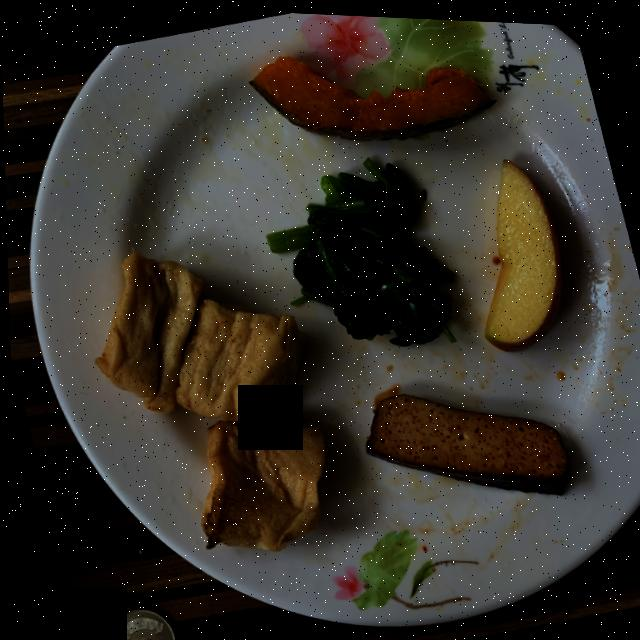apple -sliced-: (482, 154, 561, 346)
coin: (106, 606, 172, 640)
creamy tofu -without sauce-: (93, 250, 321, 547)
firm tofu: (363, 389, 567, 489)
mustard greens: (264, 157, 452, 340)
pumpkin: (249, 53, 493, 136)
